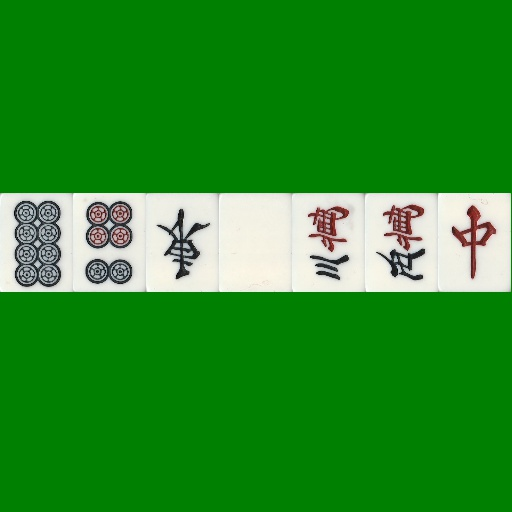3m: (292, 193, 365, 292)
5m: (365, 193, 438, 292)
6p: (73, 193, 146, 292)
8p: (0, 193, 73, 292)
east: (146, 193, 219, 292)
tyun: (438, 193, 511, 292)
white: (219, 193, 292, 292)
